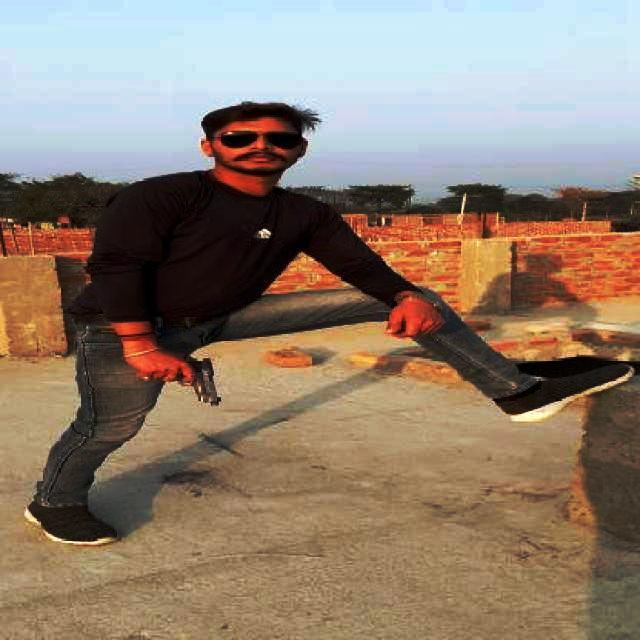Gun: (158, 345, 228, 413)
